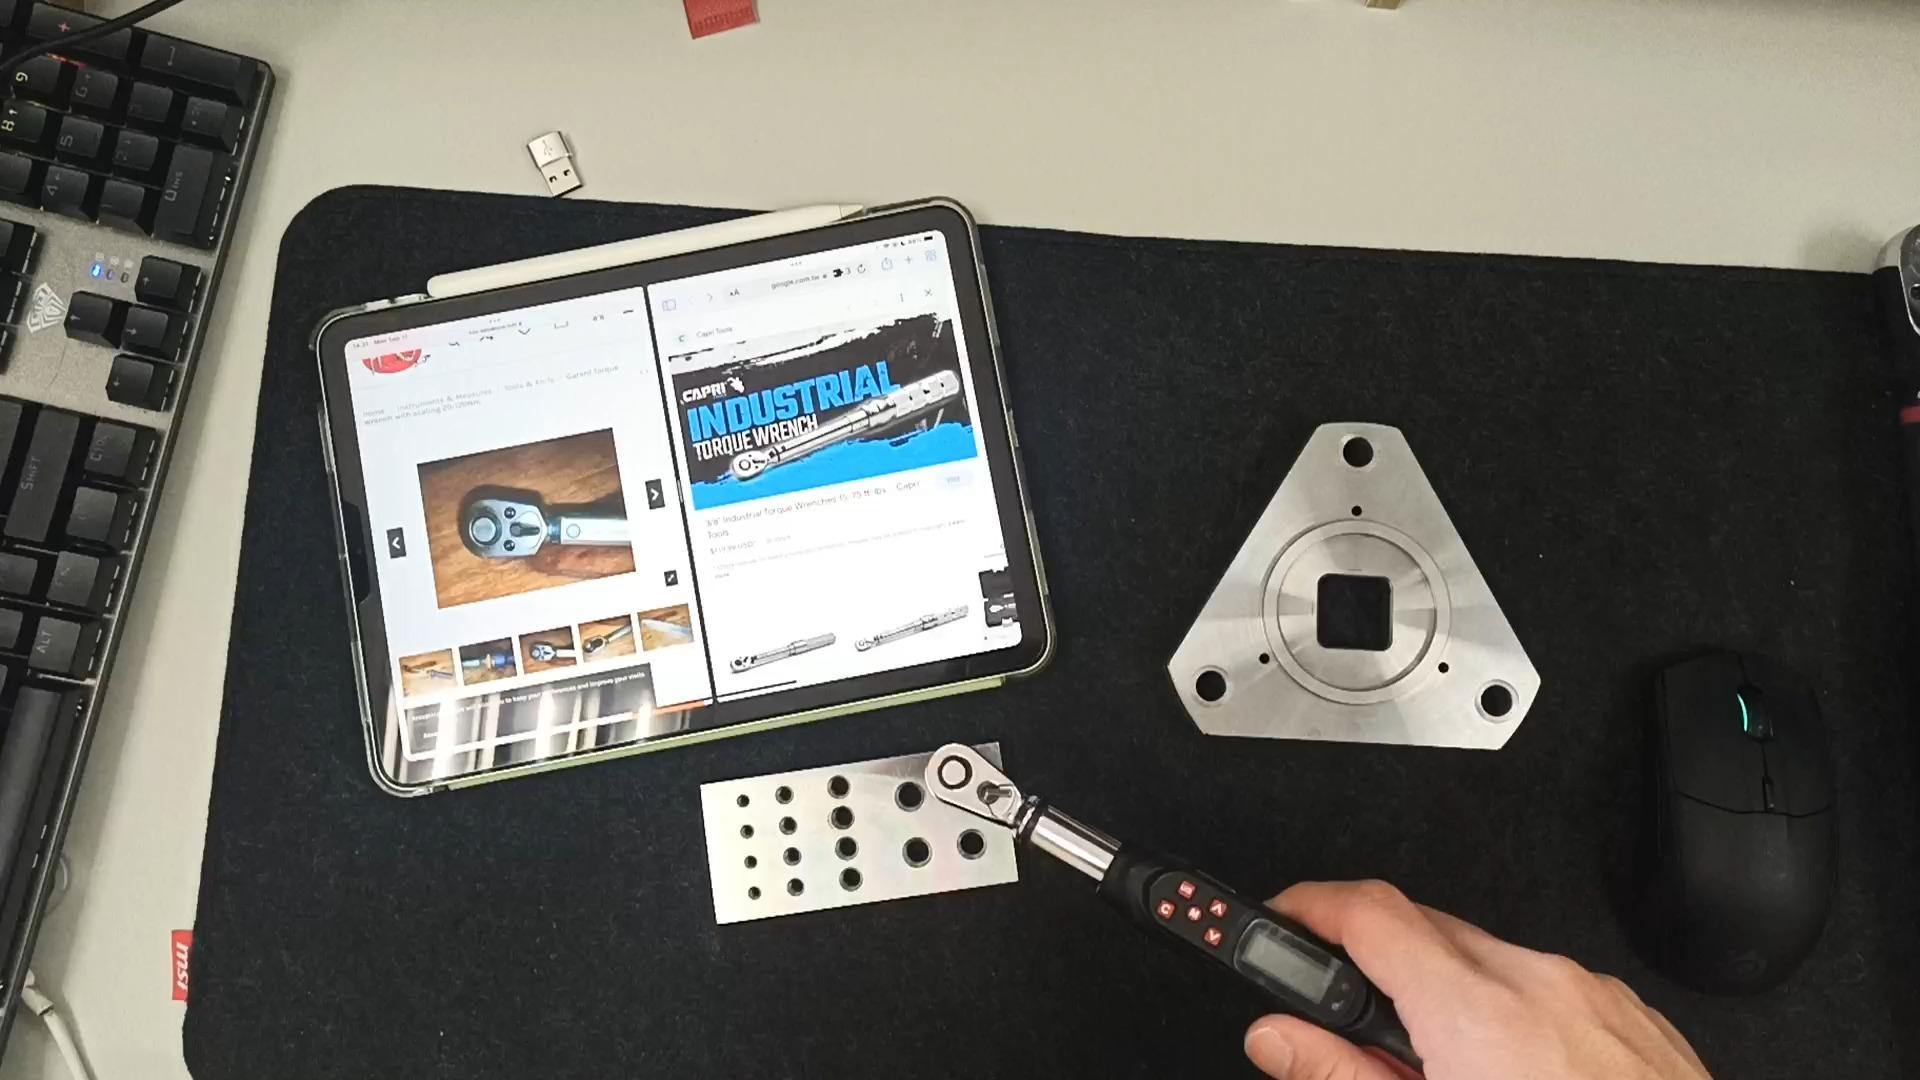Tool: (1855, 196, 1920, 409), (922, 731, 1034, 835), (446, 487, 563, 568), (727, 443, 771, 484)
hole: (1460, 686, 1522, 737), (1327, 434, 1393, 481), (1178, 670, 1237, 715), (935, 822, 997, 864), (889, 835, 942, 872), (885, 782, 936, 816), (816, 803, 865, 831), (822, 836, 866, 864), (823, 866, 869, 893), (815, 775, 858, 803), (765, 785, 804, 808), (771, 848, 811, 870), (770, 814, 808, 835), (724, 822, 760, 841), (728, 853, 762, 873), (720, 791, 753, 811), (775, 878, 810, 897), (731, 884, 761, 901)
